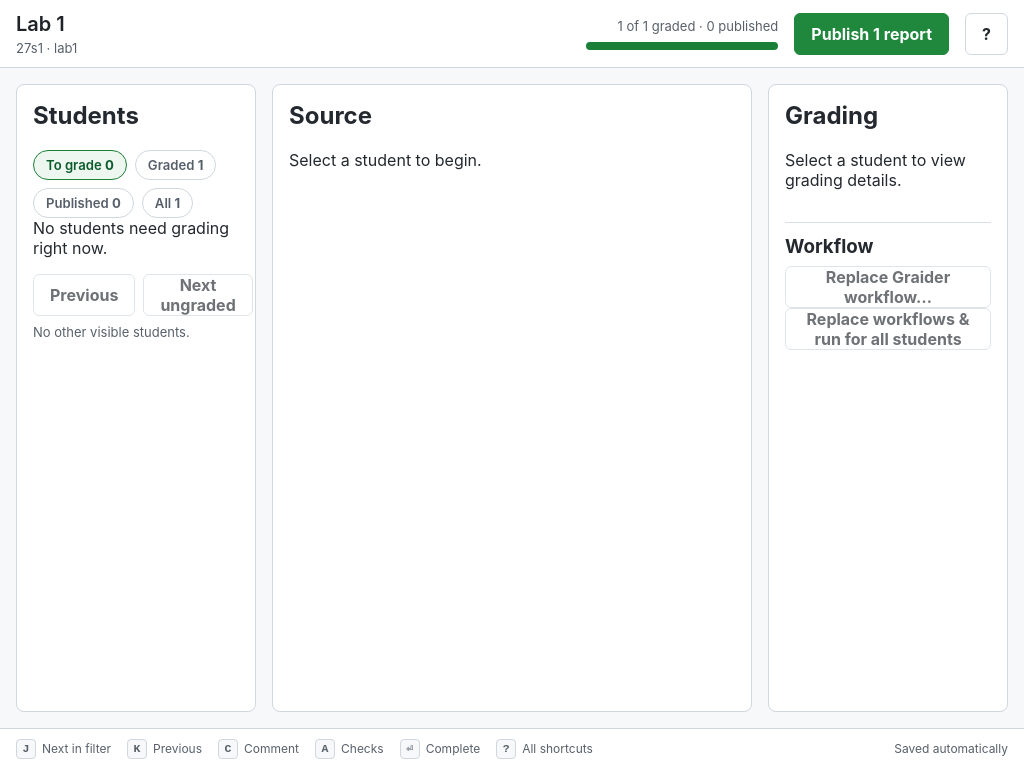
it: GradingWorkspacePage report publication › retries only an unavailable publish-review detail without changing selection
What coordinates should you click on to do the following:
click the button "Publish 1 report"
I would click on:
 (872, 34)
Its box is [794,12,949,54].
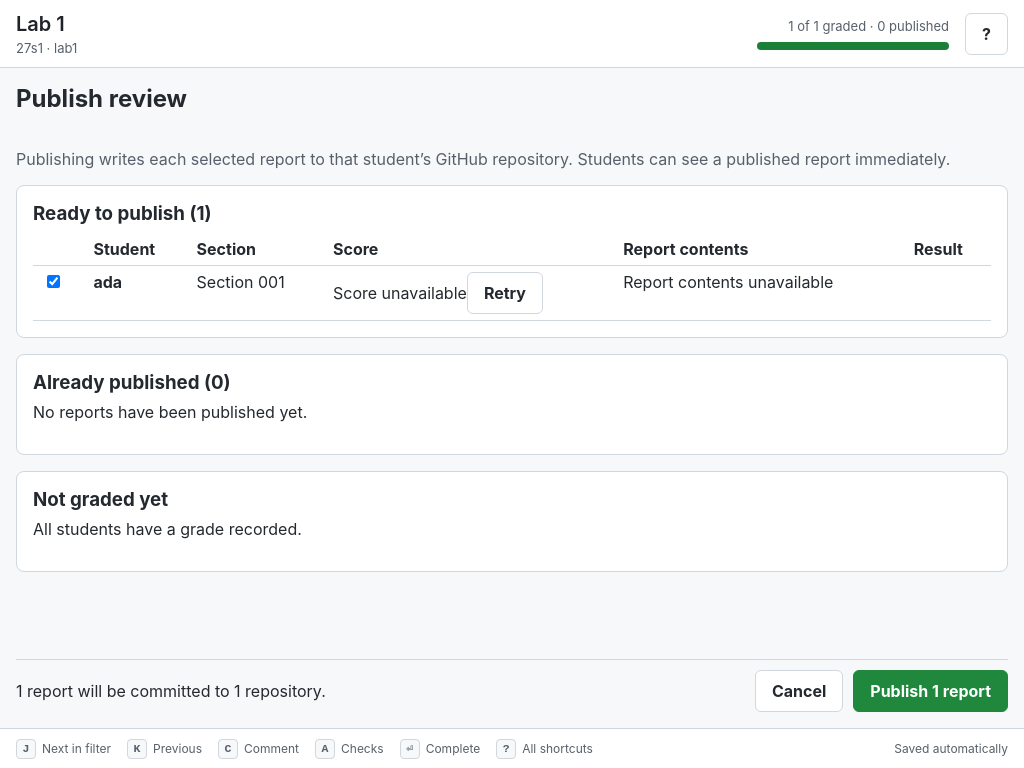
Expected: the button "Retry" is shown
Expected: the checkbox named "Select ada to publish" is checked, [47,275,60,288]
What coordinates should you click on to do the following:
click the button "Retry"
I would click on:
 (505, 293)
Its box is [467,272,543,314].
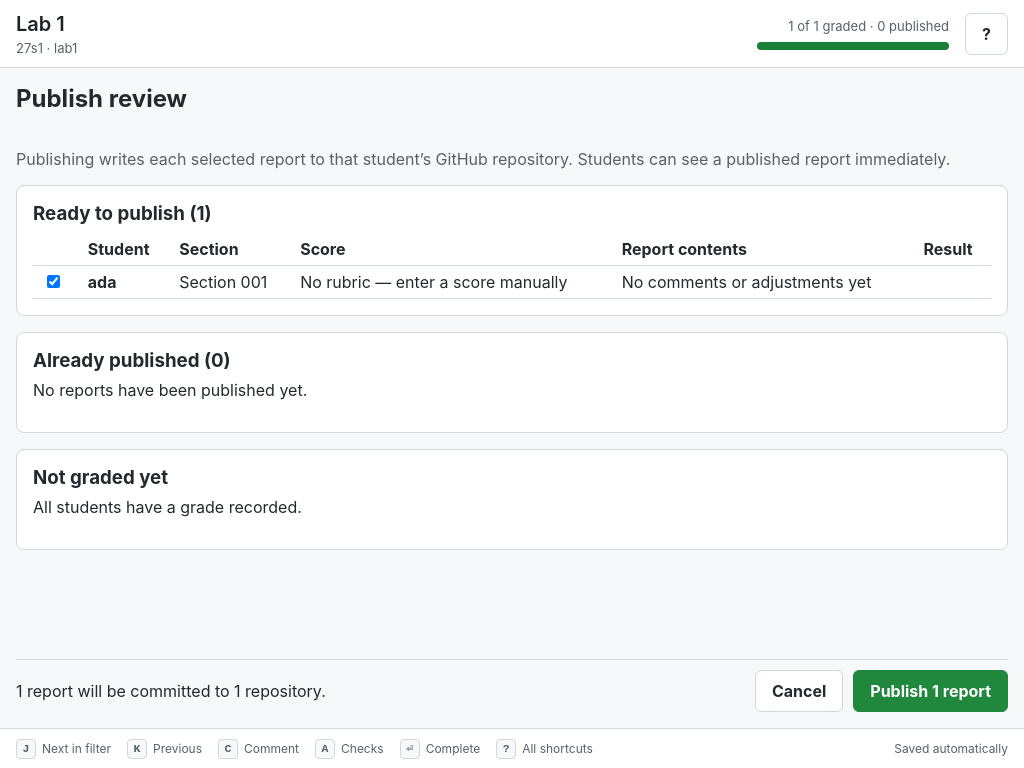
Expected: the checkbox named "Select ada to publish" is checked, [47,275,60,288]
Expected: the text "No rubric — enter a score manually" is shown, [290,266,612,298]
